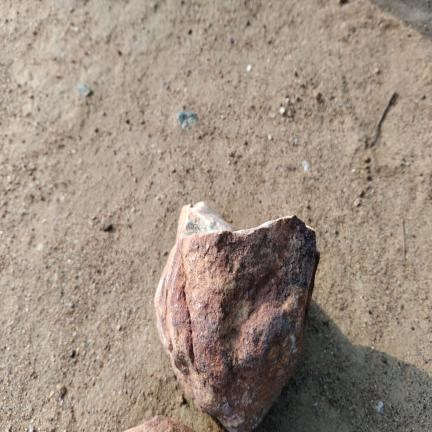Rocks: (155, 202, 319, 431), (126, 416, 193, 431), (177, 111, 197, 131), (76, 85, 92, 96), (56, 383, 66, 397), (376, 401, 384, 414), (313, 89, 322, 100), (302, 160, 310, 171), (354, 198, 360, 206), (280, 106, 285, 115), (247, 65, 252, 71), (268, 134, 272, 141)
